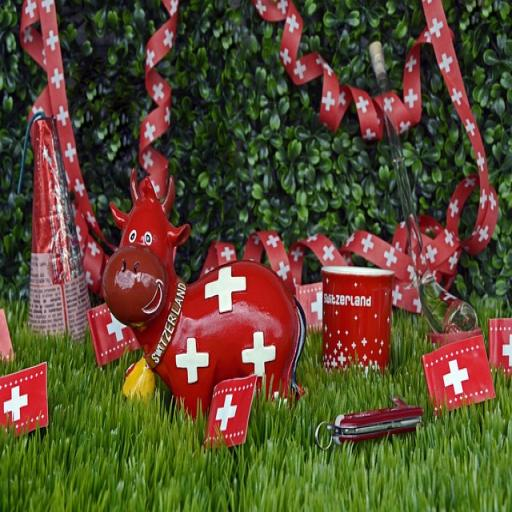cup: (320, 266, 394, 377)
